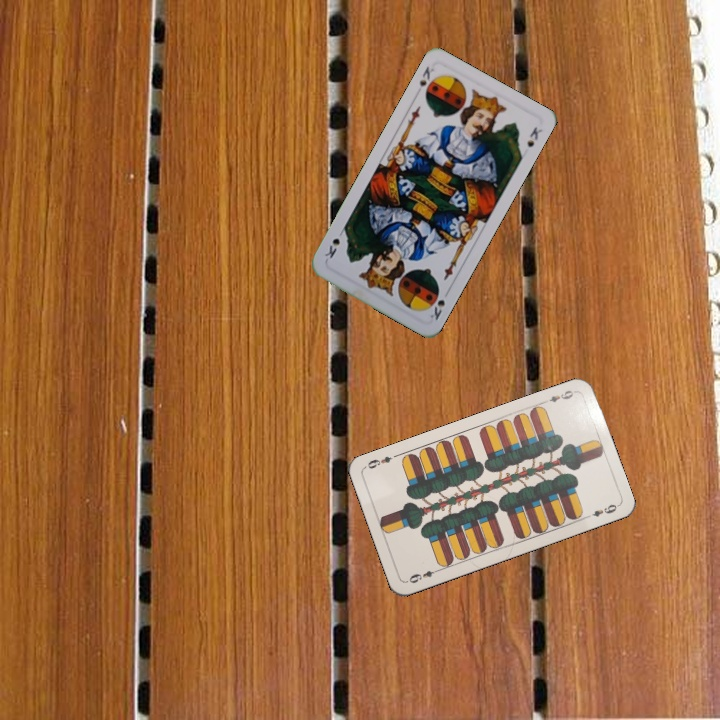E9: (403, 565, 443, 586), (539, 386, 579, 406)
SK: (415, 62, 439, 99), (426, 295, 448, 323)
